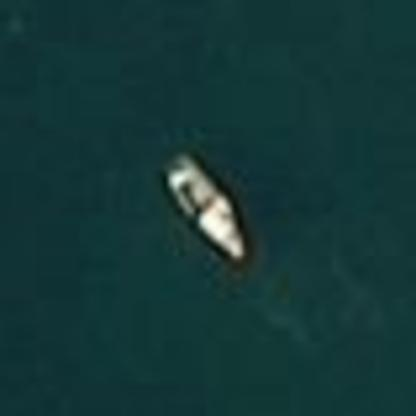ship: (149, 143, 254, 267)
